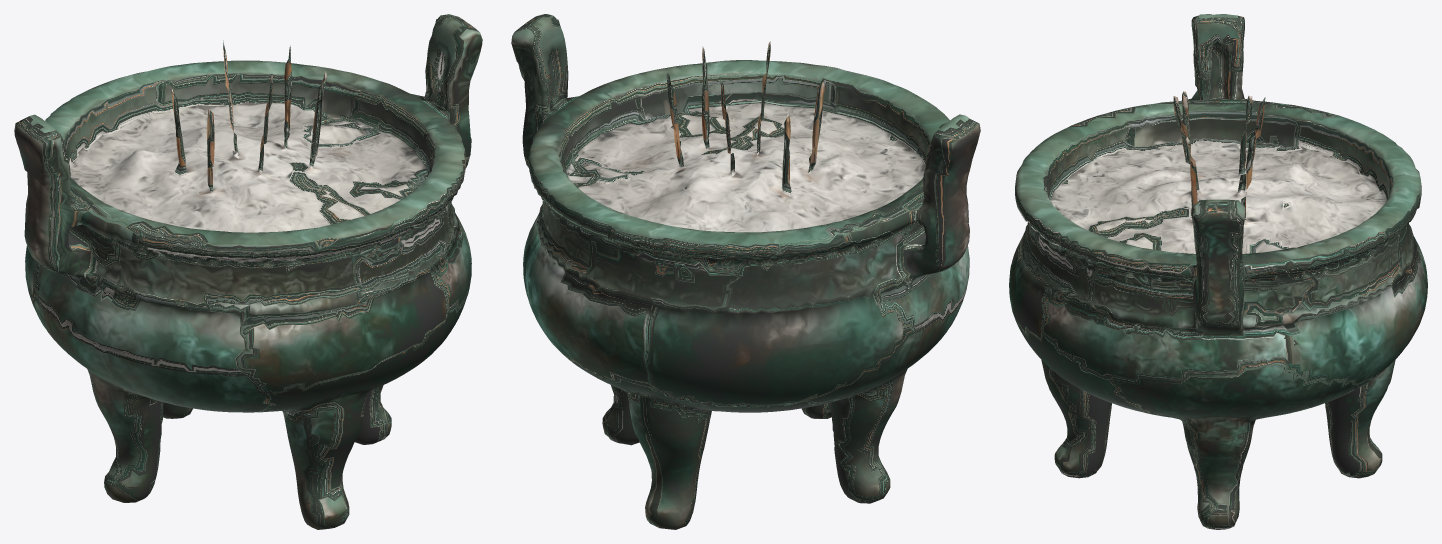
Rendered from S1-06_censer_A.glb.
The picture shows the model from 3 angles, left to right: view 1: azimuth 30°, elevation 25°; view 2: azimuth 150°, elevation 25°; view 3: azimuth 270°, elevation 25°; orthographic projection. The views are drawn at different scales.
Parts seen in each view (by area): view 1: geometry_0; view 2: geometry_0; view 3: geometry_0.
Part boxes in pixels (x1,y1,x2,y2): geometry_0: (14, 14, 482, 529); geometry_0: (511, 14, 980, 529); geometry_0: (1009, 14, 1427, 529).
Bounding box in the file's own units: 0.4988 × 0.4384 × 0.4391.
1 material, 1 textured.
